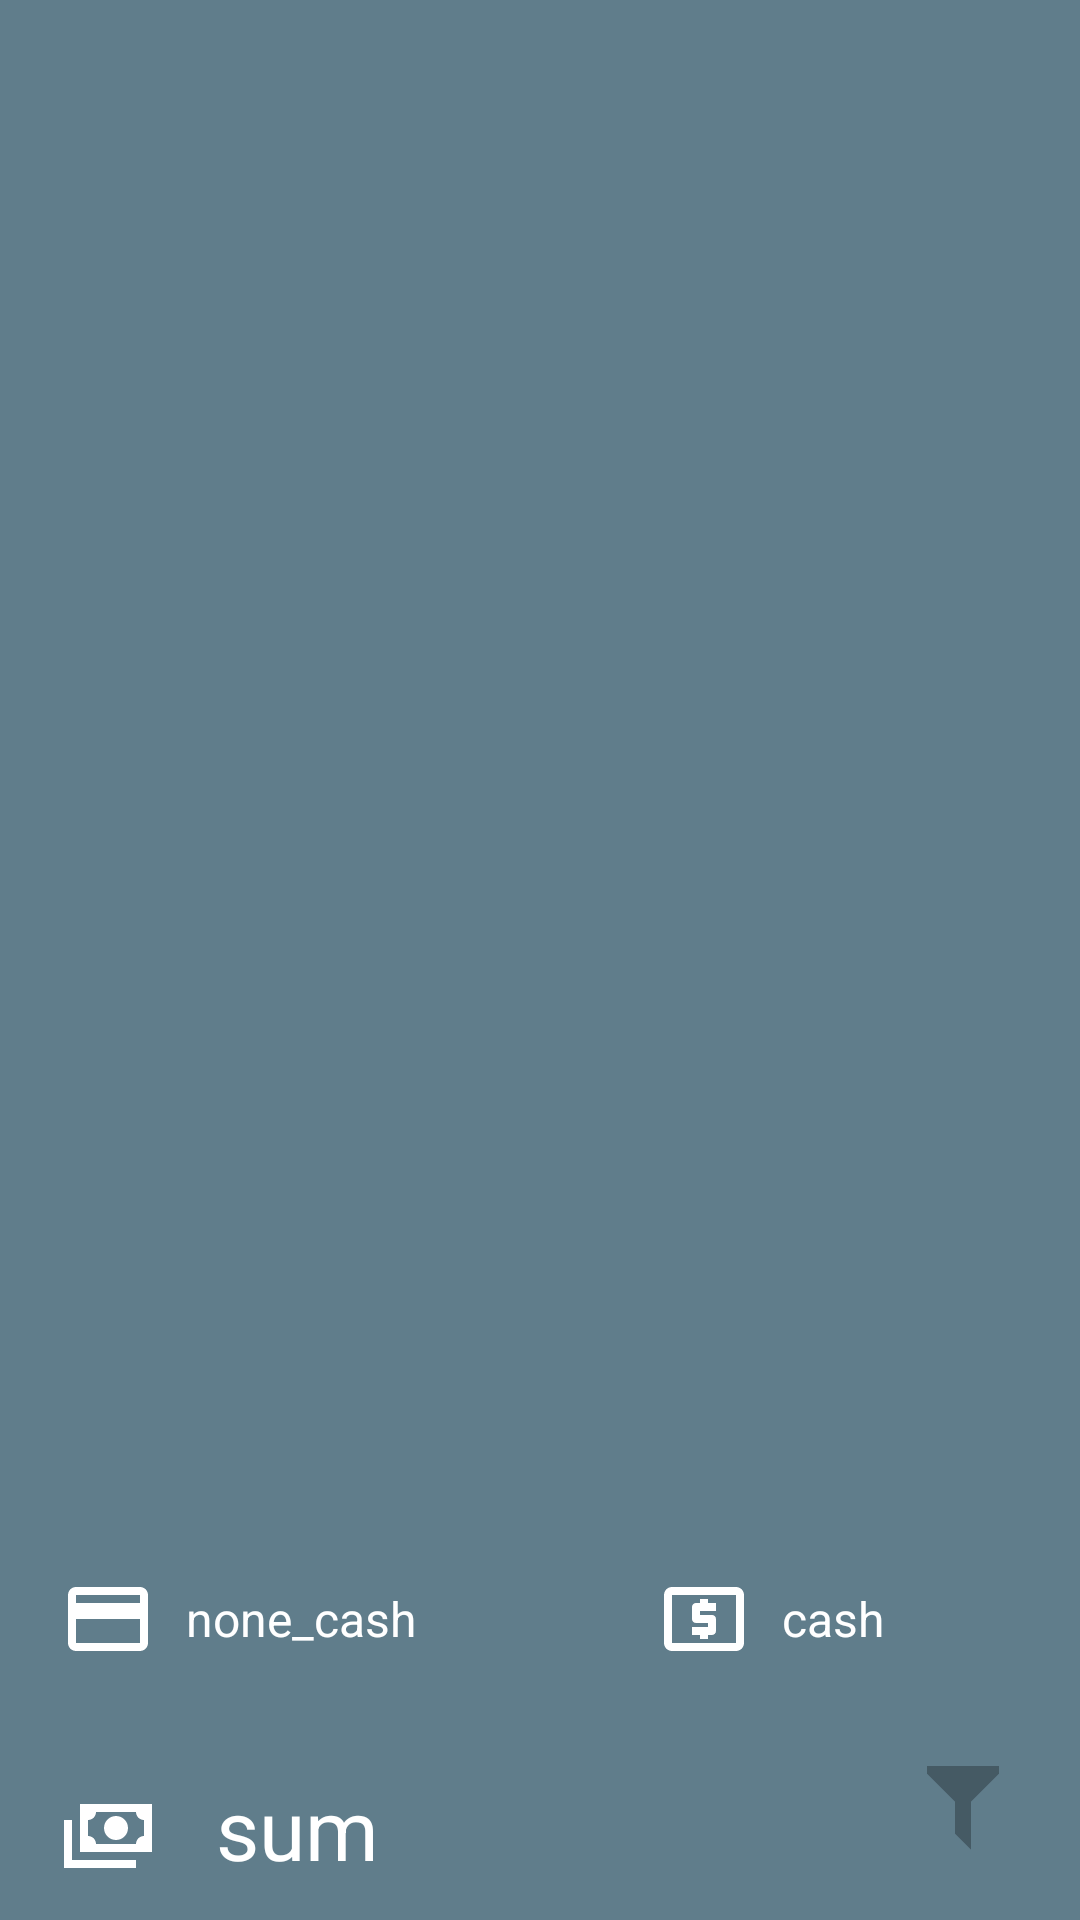

Named icons in this screenshot (1080x1920) and their bounding boxes, (x1, y1, x2, y2):
filter: (927, 1766, 999, 1849)
